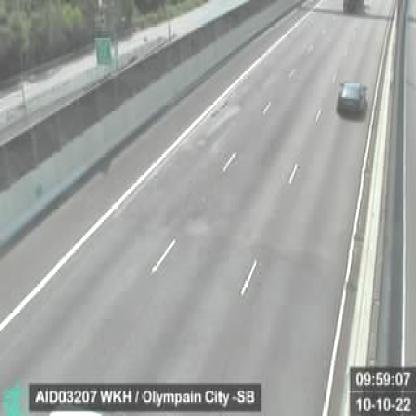Car: (336, 79, 366, 117)
